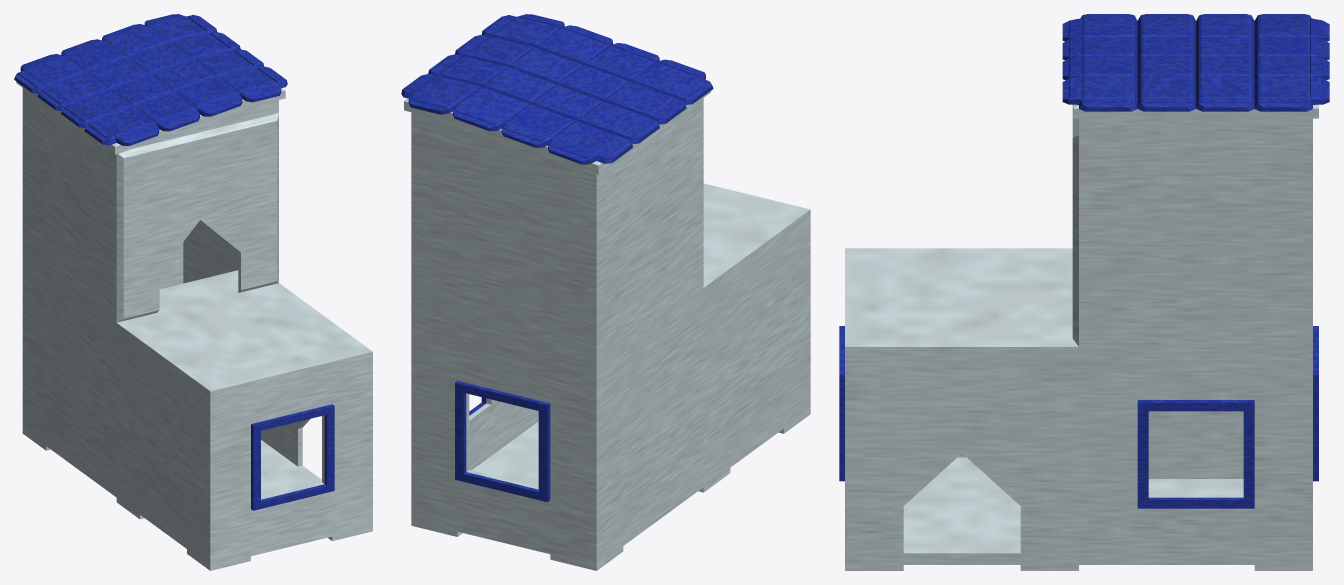
The model's file is Catscape House 2.glb.
3 views of the same model, side by side, from view 1: azimuth 30°, elevation 25°; view 2: azimuth 150°, elevation 25°; view 3: azimuth 270°, elevation 25° (orthographic). The views are drawn at different scales.
Visible parts, largest first — view 1: Catscape House Variant 2; view 2: Catscape House Variant 2; view 3: Catscape House Variant 2.
Part boxes in pixels (bbox=[...]): Catscape House Variant 2: bbox=[14, 14, 372, 570]; Catscape House Variant 2: bbox=[401, 14, 810, 570]; Catscape House Variant 2: bbox=[839, 14, 1329, 570].
Size of the model in its own units: 20.48 by 40.13 by 37.73.
Materials: 2 (2 with a texture image).
